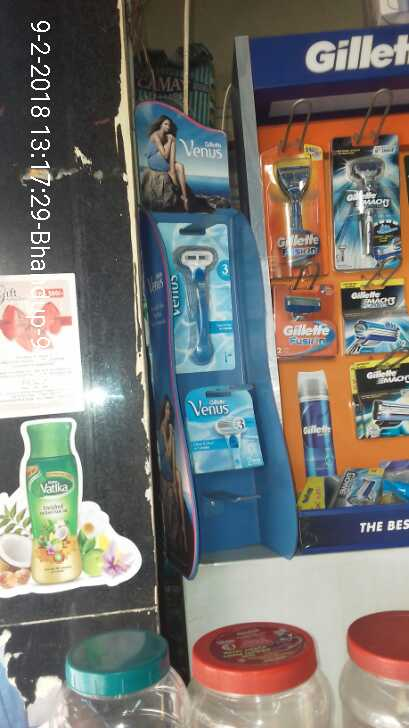beauty: (151, 218, 241, 377), (324, 128, 406, 272), (261, 144, 328, 287), (182, 379, 267, 476), (269, 287, 340, 372), (338, 279, 409, 354), (352, 364, 409, 442)
